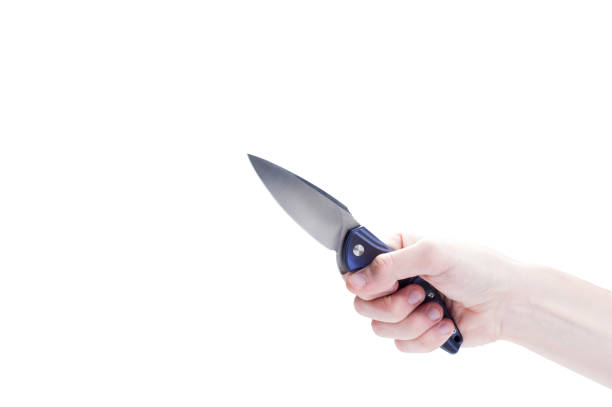knife: (245, 150, 463, 356)
